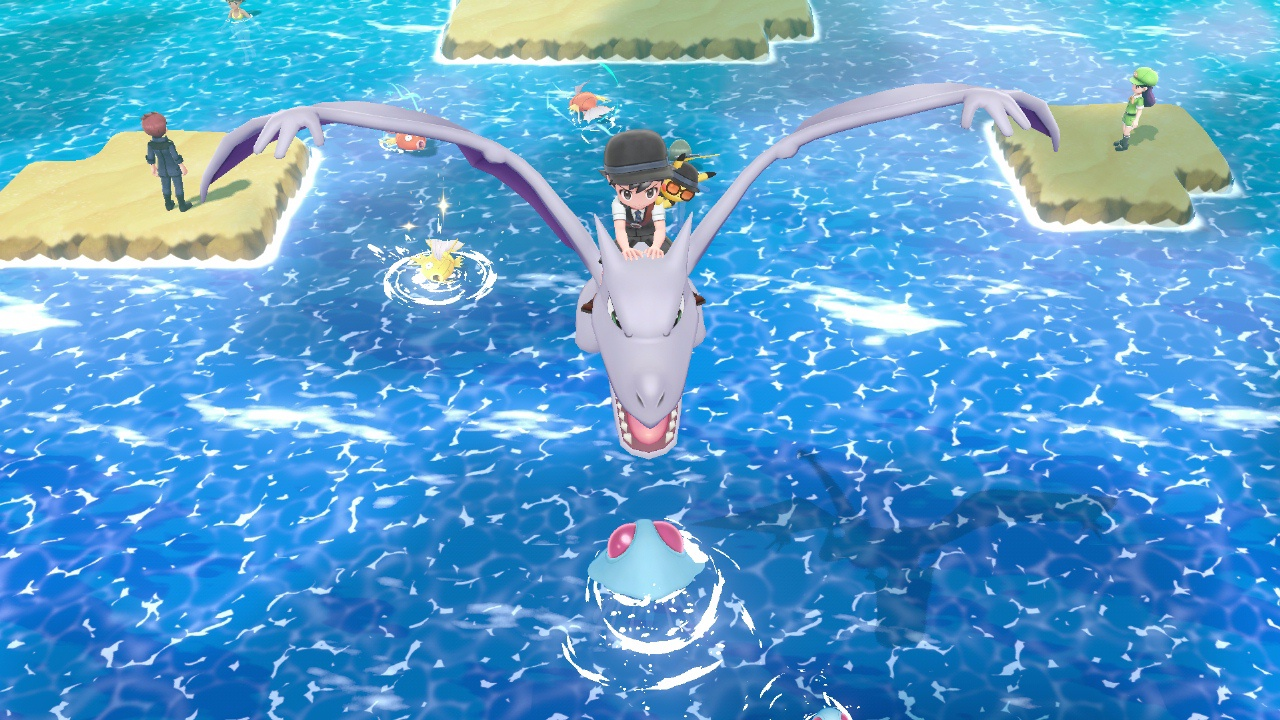Golden: (412, 237, 467, 285)
